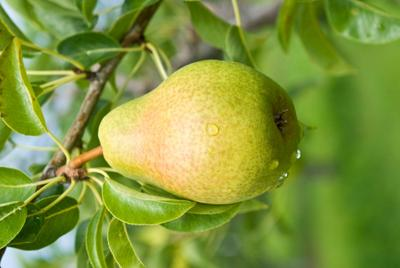pear: (0, 0, 400, 268)
